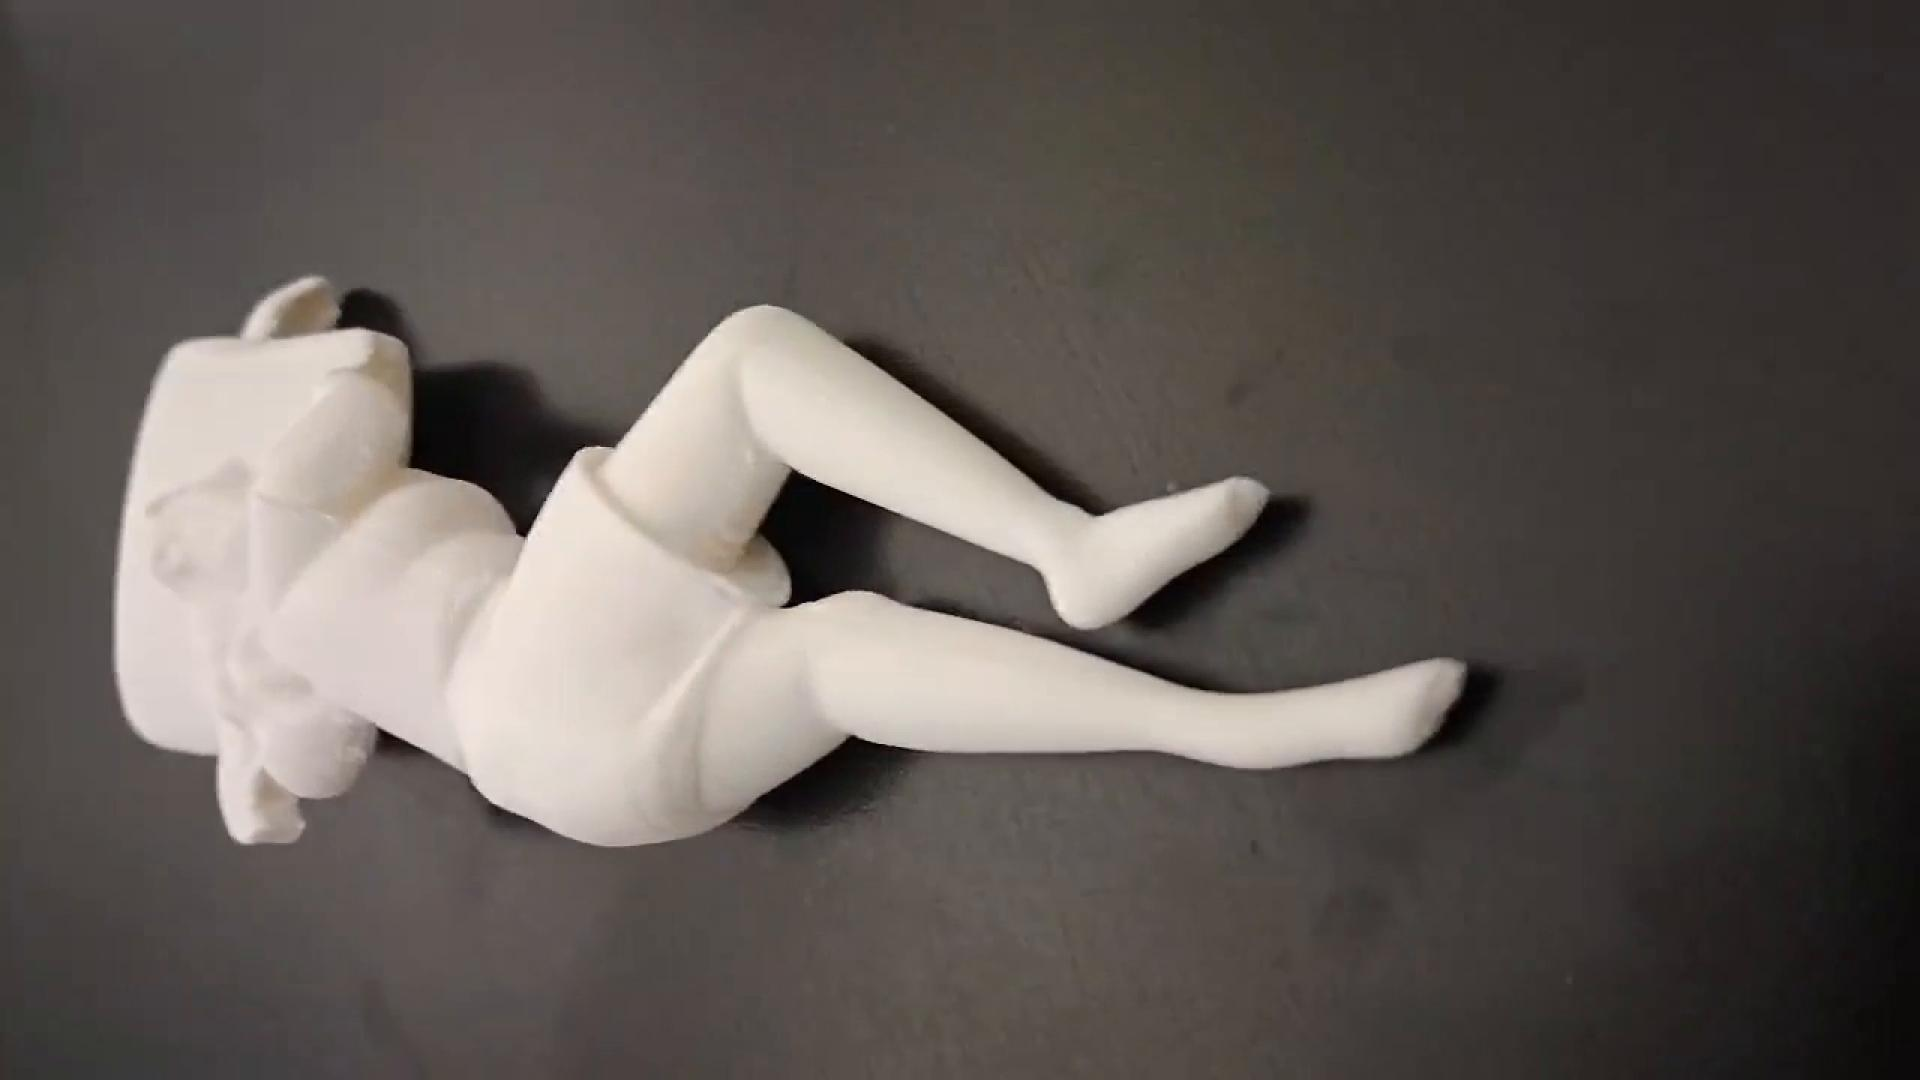Good-style: (113, 272, 1474, 872)
